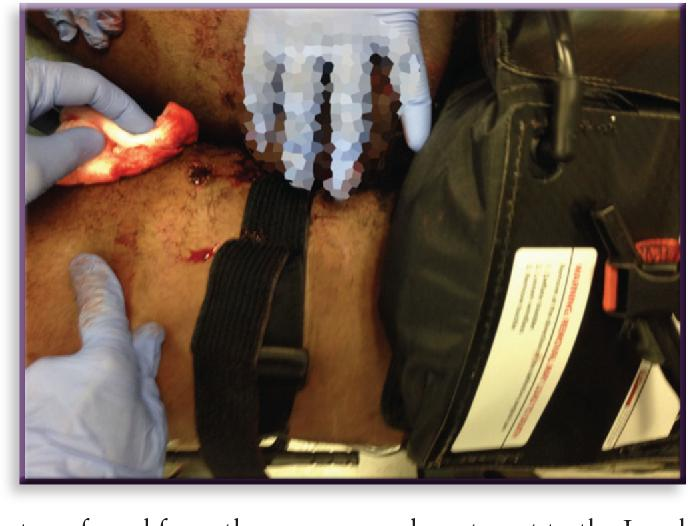gauze: (48, 102, 196, 188)
